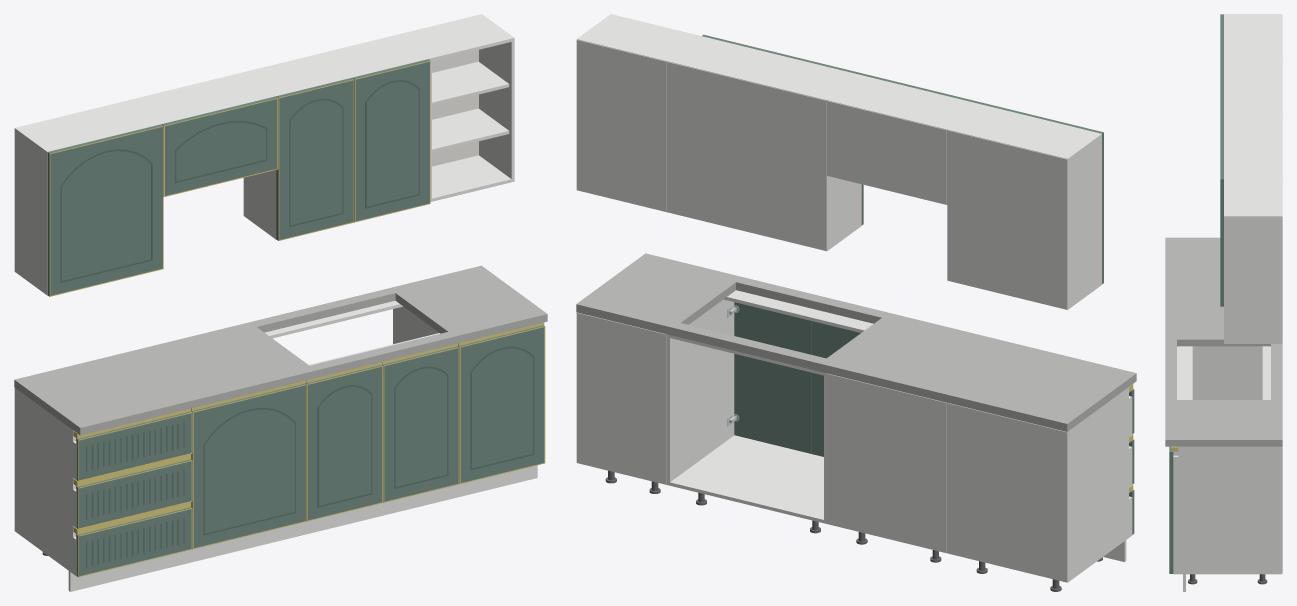
Rendered from kitchen_decor.glb.
3 renders of one model, left to right at view 1: azimuth 30°, elevation 25°; view 2: azimuth 150°, elevation 25°; view 3: azimuth 270°, elevation 25°, orthographic. The views are drawn at different scales.
Visible parts, largest first — view 1: 49:countertop, 56:wall[0].doors.door[1], 32:base[1].doors.door[1], 47:base[3].doors.door[1], 69:wall[2].doors.door[1], 70:wall[2].doors.door[2], 39:base[2].doors.door[2], 38:base[2].doors.door[1], 1:base[0].side.left, 62:wall[1].doors.door[1], 48:kitchen.plinth, 50:wall[0].side.left (+29 smaller); view 2: 49:countertop, 67:wall[2].back, 6:base[0].back, 54:wall[0].back, 30:base[1].back, 75:wall[3].back, 45:base[3].back, 1:base[0].side.left, 61:wall[1].back, 39:base[2].doors.door[2], 34:base[2].side.right, 35:base[2].bottom (+8 smaller); view 3: 41:base[3].side.right, 49:countertop, 72:wall[3].side.right, 33:base[2].side.left, 66:wall[2].top, 53:wall[0].top, 60:wall[1].top, 74:wall[3].top, 36:base[2].rail.front, 70:wall[2].doors.door[2], 47:base[3].doors.door[1], 37:base[2].rail.back (+2 smaller).
Part boxes in pixels (left/top/right/bottom): 49:countertop: left=14, top=265, right=547, bottom=435; 56:wall[0].doors.door[1]: left=47, top=124, right=163, bottom=296; 32:base[1].doors.door[1]: left=191, top=383, right=306, bottom=548; 47:base[3].doors.door[1]: left=458, top=325, right=544, bottom=483; 69:wall[2].doors.door[1]: left=276, top=78, right=353, bottom=240; 70:wall[2].doors.door[2]: left=353, top=59, right=429, bottom=221; 39:base[2].doors.door[2]: left=382, top=346, right=458, bottom=502; 38:base[2].doors.door[1]: left=306, top=365, right=382, bottom=520; 1:base[0].side.left: left=14, top=388, right=76, bottom=575; 62:wall[1].doors.door[1]: left=162, top=96, right=277, bottom=196; 48:kitchen.plinth: left=68, top=465, right=537, bottom=591; 50:wall[0].side.left: left=14, top=127, right=49, bottom=295; 49:countertop: left=576, top=253, right=1136, bottom=431; 67:wall[2].back: left=666, top=61, right=826, bottom=250; 6:base[0].back: left=947, top=403, right=1067, bottom=582; 54:wall[0].back: left=947, top=130, right=1067, bottom=309; 30:base[1].back: left=827, top=373, right=946, bottom=552; 75:wall[3].back: left=576, top=39, right=666, bottom=211; 45:base[3].back: left=576, top=312, right=666, bottom=484; 1:base[0].side.left: left=1067, top=387, right=1132, bottom=582; 61:wall[1].back: left=827, top=101, right=946, bottom=204; 39:base[2].doors.door[2]: left=734, top=302, right=811, bottom=453; 34:base[2].side.right: left=666, top=299, right=734, bottom=485; 35:base[2].bottom: left=670, top=435, right=823, bottom=523; 41:base[3].side.right: left=1173, top=446, right=1281, bottom=574; 49:countertop: left=1165, top=237, right=1282, bottom=446; 72:wall[3].side.right: left=1224, top=215, right=1281, bottom=343; 33:base[2].side.left: left=1192, top=346, right=1262, bottom=399; 66:wall[2].top: left=1224, top=114, right=1281, bottom=177; 53:wall[0].top: left=1224, top=15, right=1281, bottom=62; 60:wall[1].top: left=1224, top=65, right=1281, bottom=111; 74:wall[3].top: left=1224, top=180, right=1281, bottom=214; 36:base[2].rail.front: left=1177, top=346, right=1192, bottom=399; 70:wall[2].doors.door[2]: left=1220, top=146, right=1223, bottom=306; 47:base[3].doors.door[1]: left=1169, top=446, right=1173, bottom=573; 37:base[2].rail.back: left=1262, top=346, right=1270, bottom=399.
Size of the model in its own units: 2.45 by 2.12 by 0.6.
